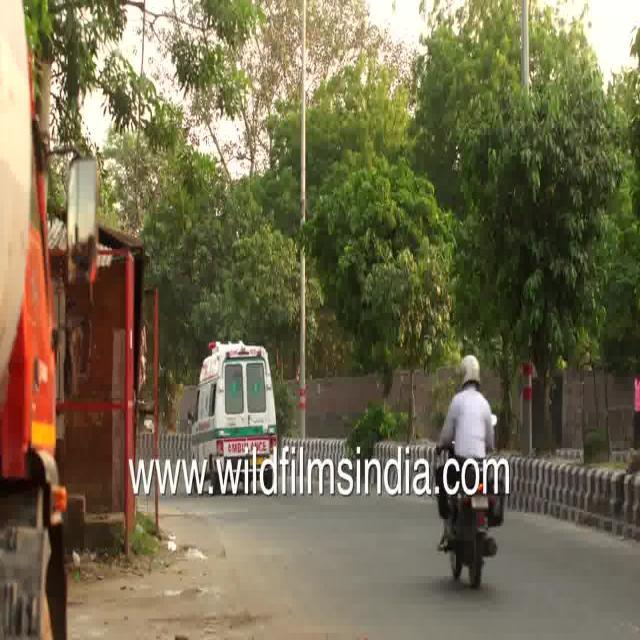ambulance: (182, 320, 293, 505)
